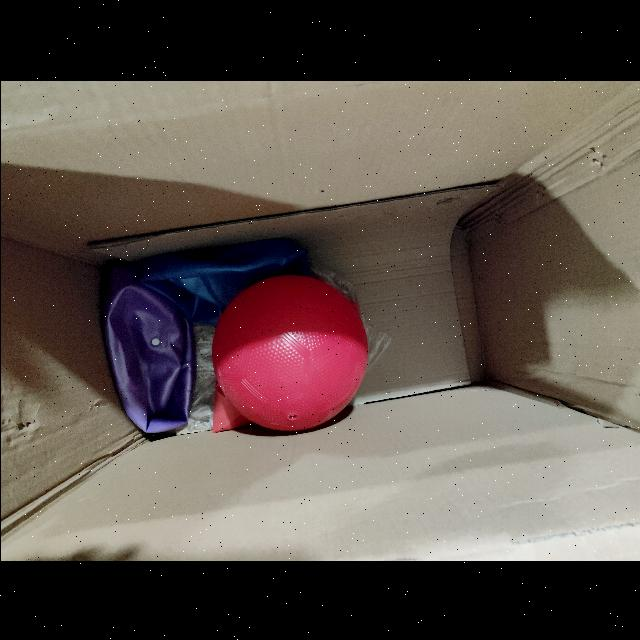R: (208, 272, 368, 432)
